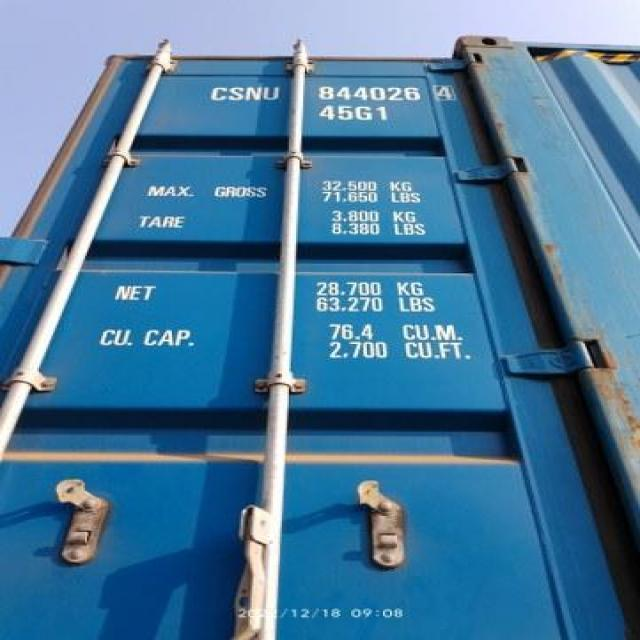ISO: (320, 106, 398, 121)
container_number: (204, 78, 472, 108)
